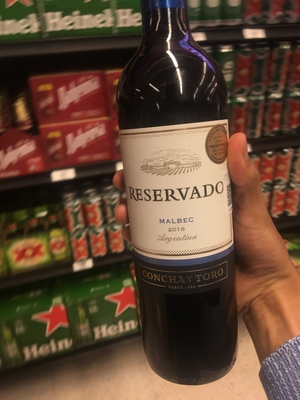reservado malbec: (114, 6, 251, 381)
